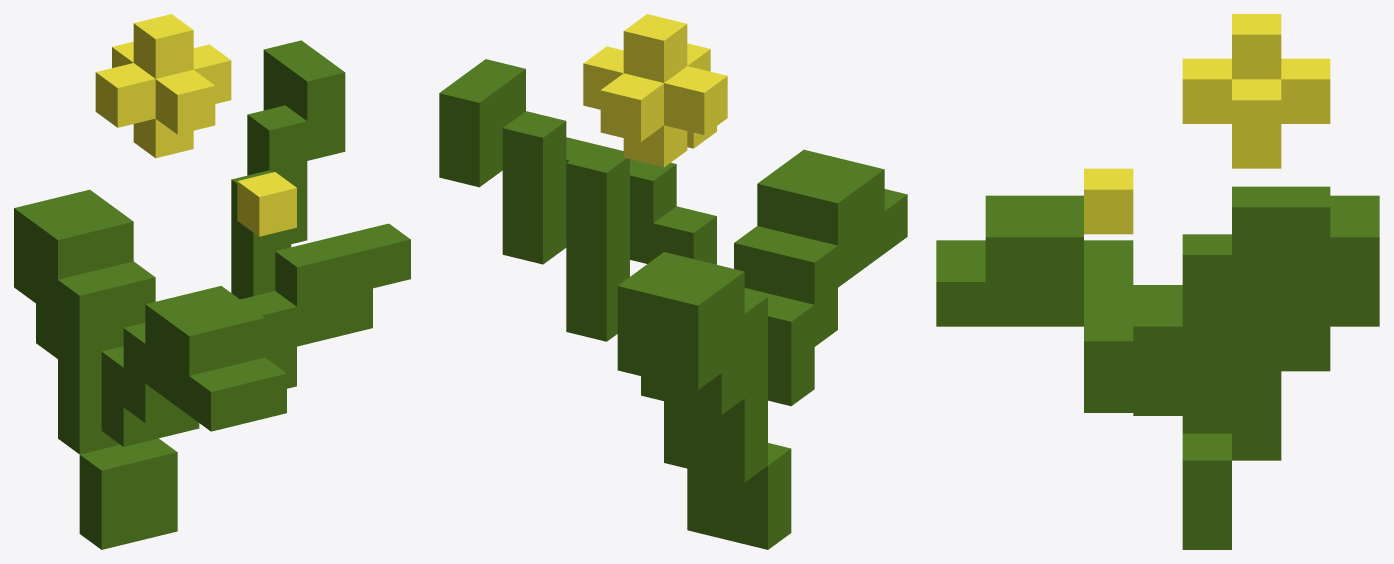
The model's file is Pissenlit.obj.
3 views of the same model, side by side, from view 1: azimuth 30°, elevation 25°; view 2: azimuth 150°, elevation 25°; view 3: azimuth 270°, elevation 25° (orthographic). The views are drawn at different scales.
Size of the model in its own units: 7 by 12 by 9.
Materials: 1 (1 with a texture image).
